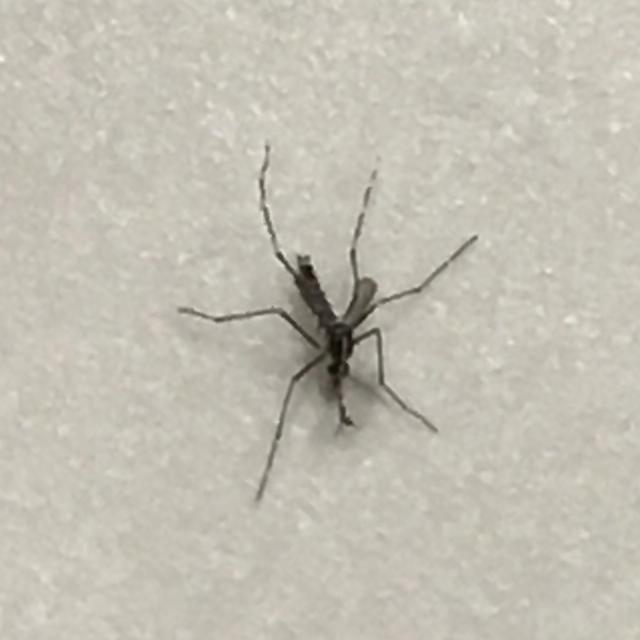albopictus: (159, 138, 477, 494)
